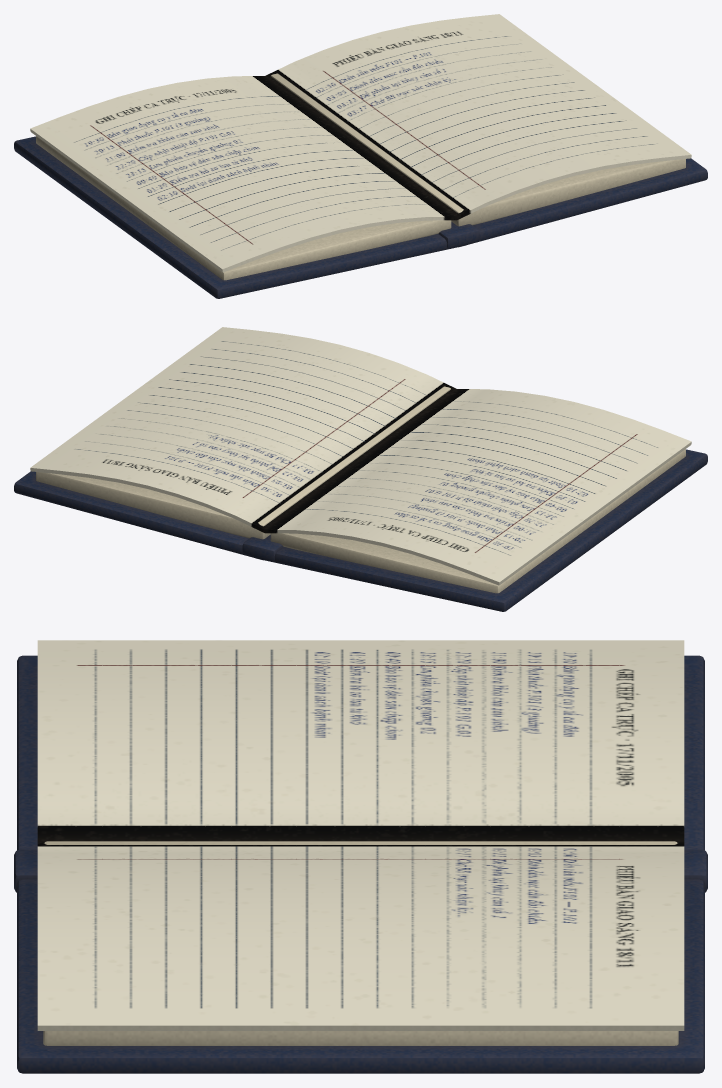
File: CTCC_PROP_CH01DutyBook.fbx
The picture shows the model from 3 angles, top to bottom: view 1: azimuth 30°, elevation 25°; view 2: azimuth 150°, elevation 25°; view 3: azimuth 270°, elevation 25°; orthographic projection. The views are drawn at different scales.
Visible parts, largest first — view 1: CTCC_PROP_CH01DutyBook; view 2: CTCC_PROP_CH01DutyBook; view 3: CTCC_PROP_CH01DutyBook.
Boxes of the visible parts, bbox=[...] form: CTCC_PROP_CH01DutyBook: bbox=[14, 14, 707, 298]; CTCC_PROP_CH01DutyBook: bbox=[14, 327, 707, 611]; CTCC_PROP_CH01DutyBook: bbox=[14, 640, 707, 1073].
Bounding box in the file's own units: 0.3251 × 0.0265 × 0.236.
